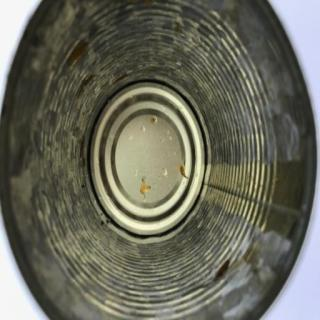METAL: (0, 0, 318, 319)
